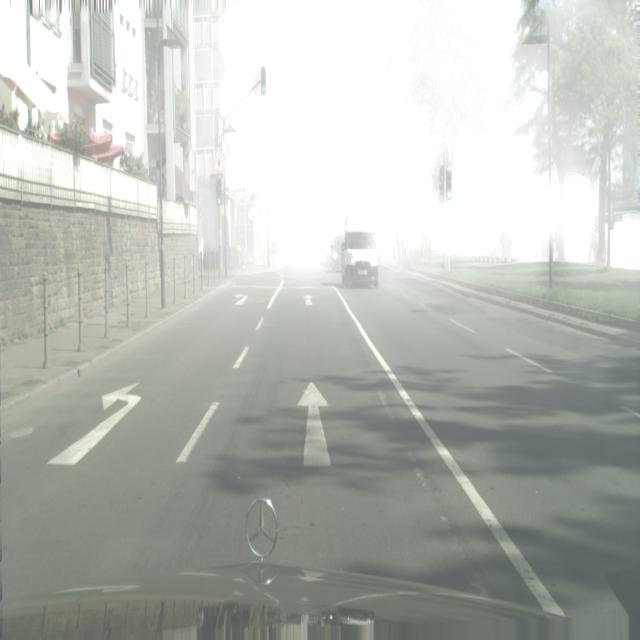motorcycle: (341, 211, 379, 289)
truck: (325, 234, 342, 272)
